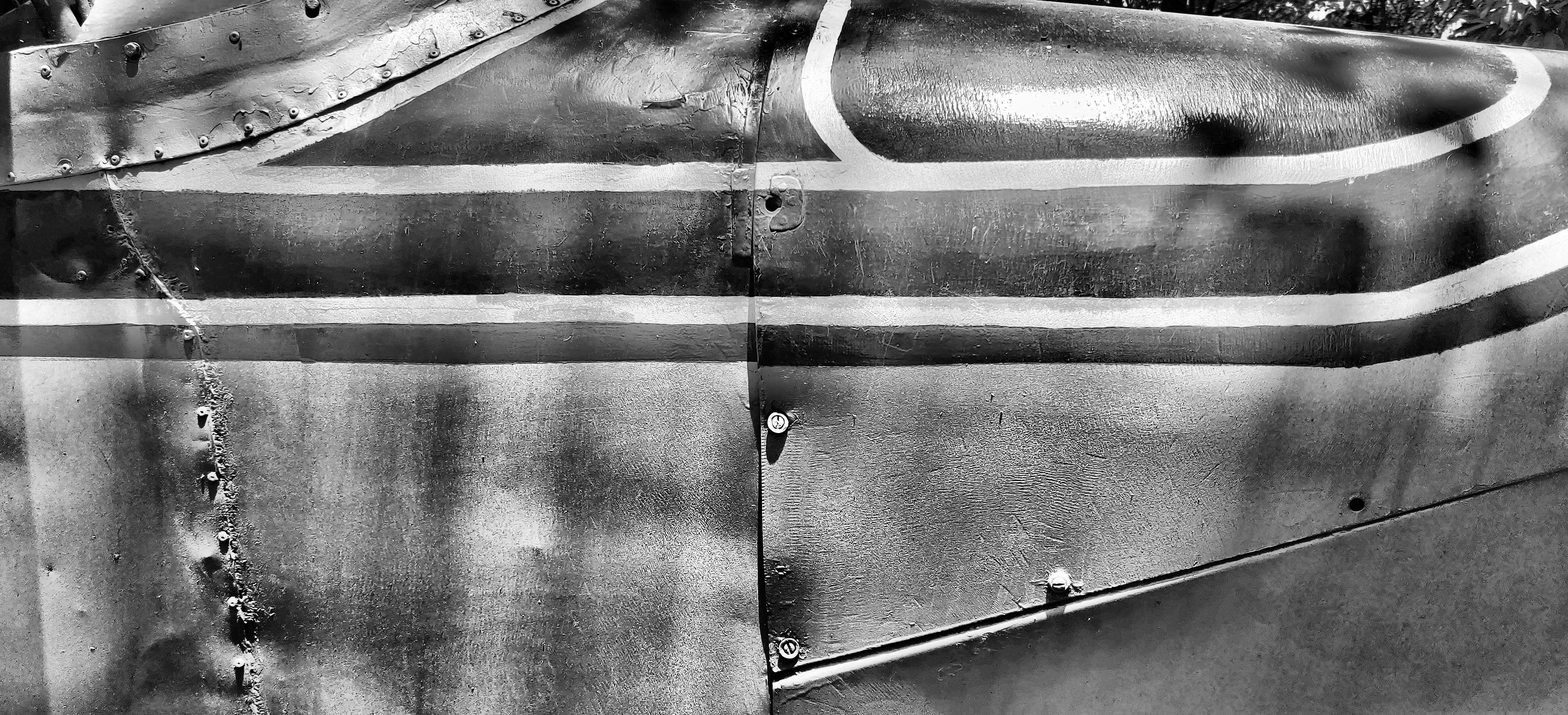missing-head: (762, 193, 784, 218)
paint-peel-off: (275, 86, 319, 117), (234, 107, 270, 136), (641, 94, 687, 111)
scratch: (40, 273, 78, 285)
